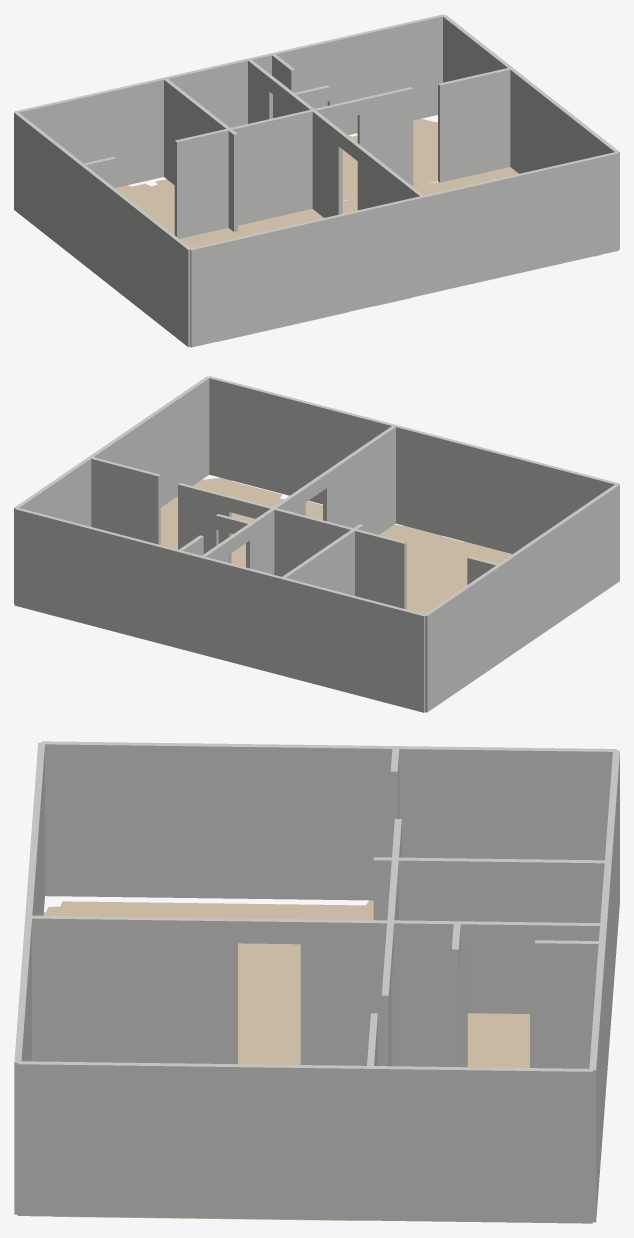
Rendered from home.gltf.
3 views of the same model, one above another, from view 1: azimuth 30°, elevation 25°; view 2: azimuth 150°, elevation 25°; view 3: azimuth 270°, elevation 25° (orthographic). The views are drawn at different scales.
Visible parts, largest first — view 1: walls, floor; view 2: walls, floor; view 3: walls, floor.
Part boxes in pixels (left/top/right/bottom): walls: left=14, top=14, right=619, bottom=347; floor: left=116, top=119, right=601, bottom=341; walls: left=14, top=376, right=619, bottom=712; floor: left=160, top=477, right=512, bottom=613; walls: left=14, top=741, right=619, bottom=1223; floor: left=14, top=900, right=529, bottom=1220.
Bounding box in the file's own units: 11.21 × 2.4 × 8.68.
